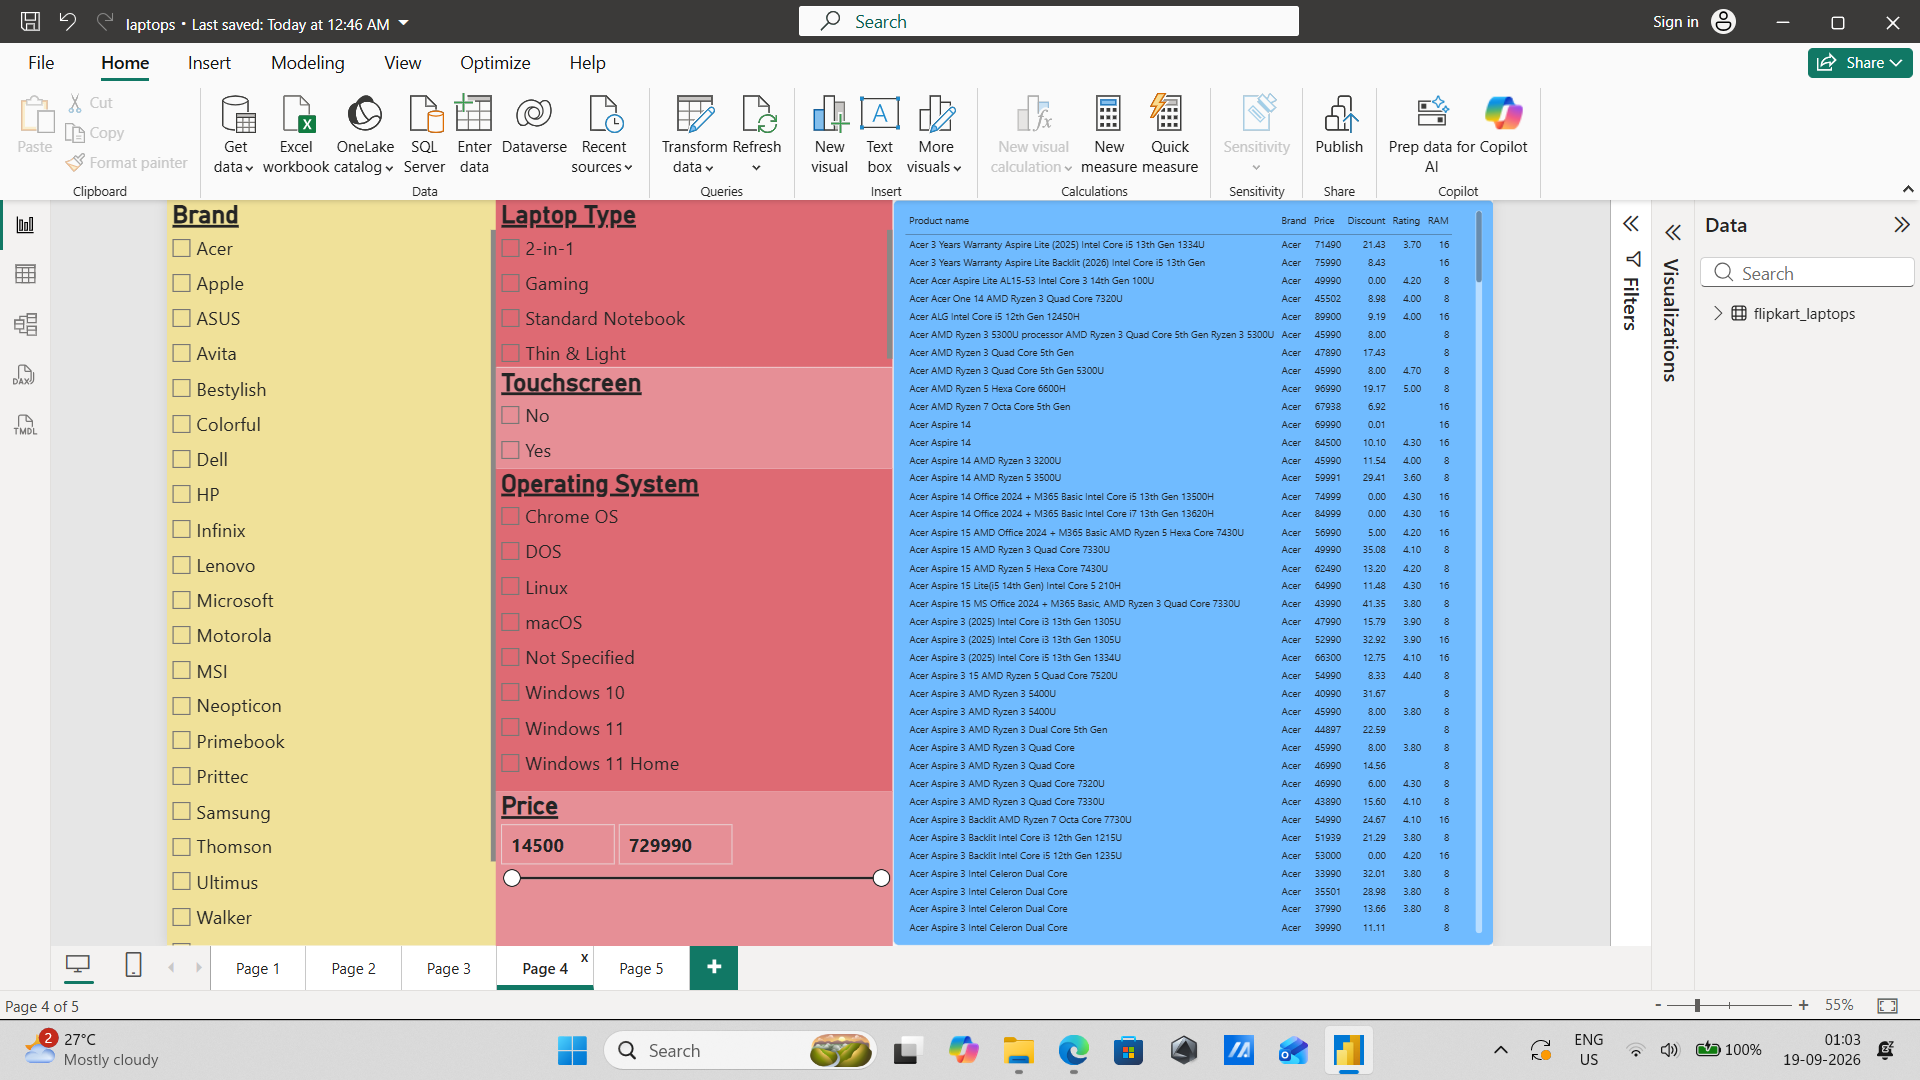

The dashboard page shown, as its layout file describes it:
{"tool":"powerbi","page":{"name":"Page 4","canvas":[1920,1080],"ordinal":3},"visuals":[{"type":"actionButton","box":[0,0,100,40],"z":2},{"type":"tableEx","fields":{"Values":["flipkart_laptops.Product name","flipkart_laptops.Brand","flipkart_laptops.Price","flipkart_laptops.Discount","flipkart_laptops.Rating","flipkart_laptops.RAM"]},"box":[1051.2,0,869.8,1079.1],"z":3},{"type":"slicer","title":"Brand","fields":{"Values":["flipkart_laptops.Brand"]},"box":[0,0,476.7,1079.1],"z":4},{"type":"slicer","fields":{"Values":["flipkart_laptops.Laptop Type"]},"box":[476.7,0,574.4,241.9],"z":5},{"type":"slicer","fields":{"Values":["flipkart_laptops.Touchscreen"]},"box":[476.7,241.9,574.4,146.5],"z":6},{"type":"slicer","fields":{"Values":["flipkart_laptops.Operating System"]},"box":[476.7,388.4,574.4,467.4],"z":7},{"type":"slicer","fields":{"Values":["flipkart_laptops.Price"]},"box":[476.7,855.8,574.4,223.3],"z":8}]}

Visuals, with their boxes on the page's 1920x1080 design canvas (x1, y1, x2, y2). These are canvas units, not pixel positions in the 1920x1080 screenshot, which may show the page scaled, cropped or inside an application window:
actionButton: x1=0, y1=0, x2=100, y2=40
tableEx - flipkart_laptops.Product name x flipkart_laptops.Brand: x1=1051, y1=0, x2=1921, y2=1079
"Brand" slicer: x1=0, y1=0, x2=477, y2=1079
slicer - flipkart_laptops.Laptop Type: x1=477, y1=0, x2=1051, y2=242
slicer - flipkart_laptops.Touchscreen: x1=477, y1=242, x2=1051, y2=388
slicer - flipkart_laptops.Operating System: x1=477, y1=388, x2=1051, y2=856
slicer - flipkart_laptops.Price: x1=477, y1=856, x2=1051, y2=1079
